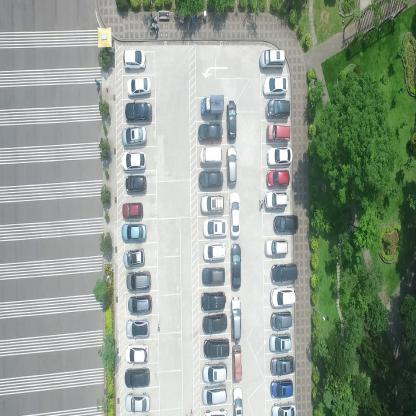car: (201, 360, 227, 385), (269, 263, 298, 285), (228, 191, 241, 239), (124, 391, 152, 413), (127, 76, 152, 100), (202, 312, 228, 335), (261, 74, 288, 96), (120, 124, 147, 146), (124, 367, 151, 389), (230, 242, 242, 290), (260, 48, 285, 71), (203, 217, 228, 240), (197, 122, 223, 144), (203, 337, 229, 359), (124, 342, 150, 364), (125, 101, 152, 122), (200, 94, 224, 117), (265, 99, 290, 121), (271, 286, 296, 308), (270, 354, 295, 376), (230, 294, 241, 344), (126, 270, 151, 292), (120, 150, 146, 171), (266, 146, 293, 166), (122, 49, 146, 71), (125, 319, 150, 340), (198, 169, 224, 189), (202, 386, 228, 406), (121, 223, 147, 243), (200, 291, 227, 310), (268, 121, 290, 144), (123, 247, 145, 270), (270, 378, 294, 399), (201, 193, 225, 214), (274, 214, 299, 234), (226, 97, 237, 142), (270, 309, 292, 331), (226, 144, 237, 188), (264, 238, 288, 258), (198, 146, 223, 165), (269, 332, 291, 353), (264, 190, 288, 209), (202, 243, 226, 262), (128, 296, 152, 315), (201, 267, 226, 285), (121, 201, 144, 220), (265, 169, 289, 187), (125, 174, 147, 193), (232, 343, 242, 383), (232, 384, 244, 416), (270, 401, 297, 415), (203, 407, 229, 415)
